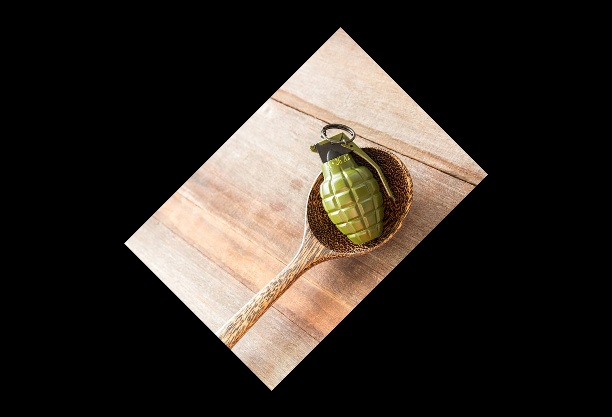e1: (308, 121, 395, 250)
